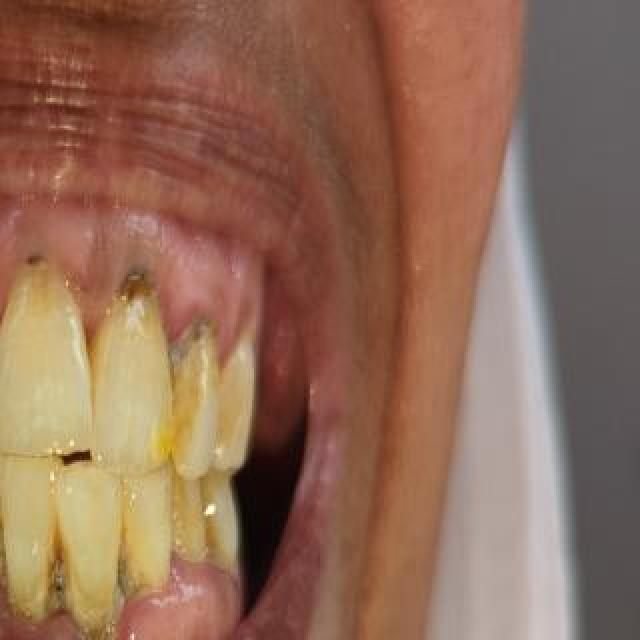calculus: (30, 536, 92, 640), (94, 224, 150, 330), (173, 282, 219, 404), (107, 539, 145, 627), (0, 512, 24, 600)
cavities: (10, 216, 56, 308)
stains: (148, 368, 206, 478), (167, 473, 229, 575)
